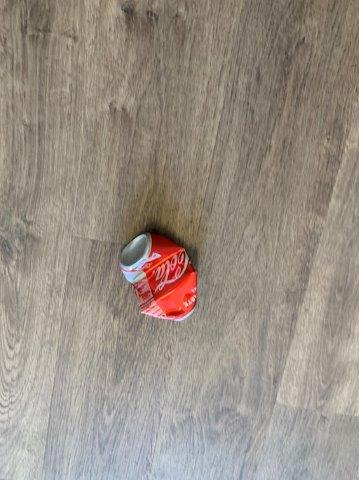kaleng: (118, 234, 197, 319)
